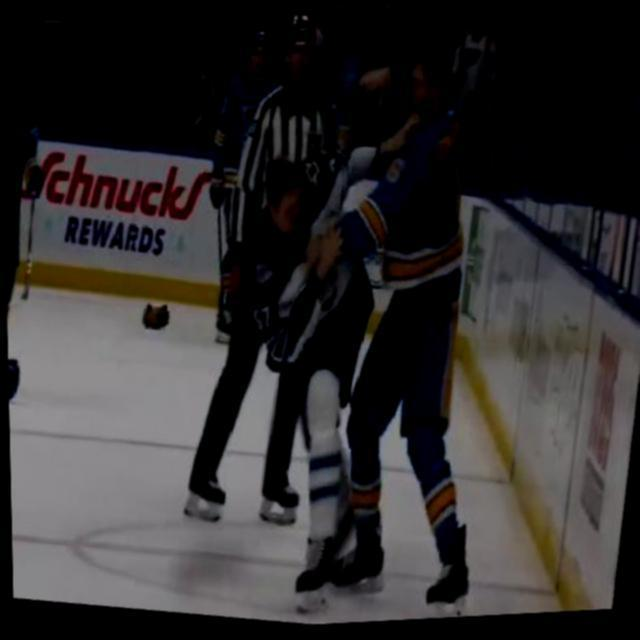fight: (222, 21, 503, 524)
